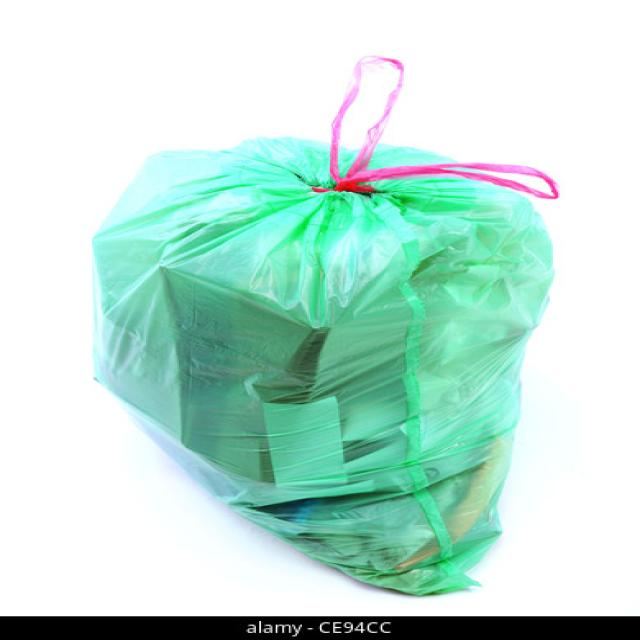trash: (61, 45, 586, 602)
